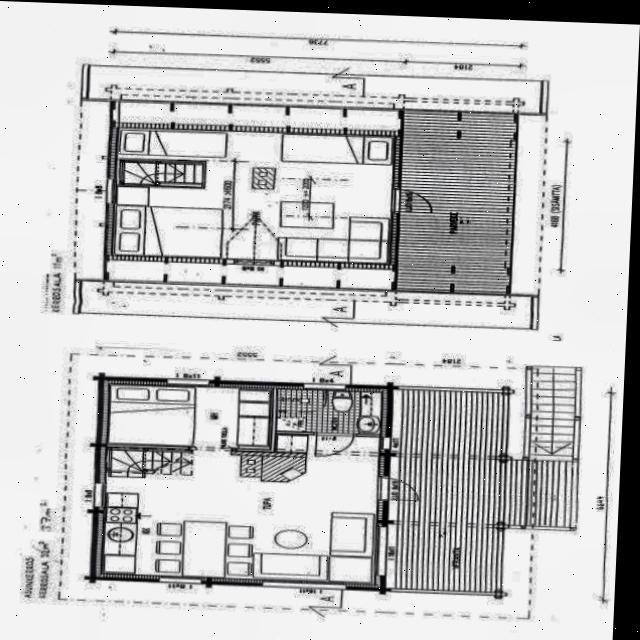room: (115, 128, 393, 262), (109, 384, 271, 449), (277, 389, 380, 433)
